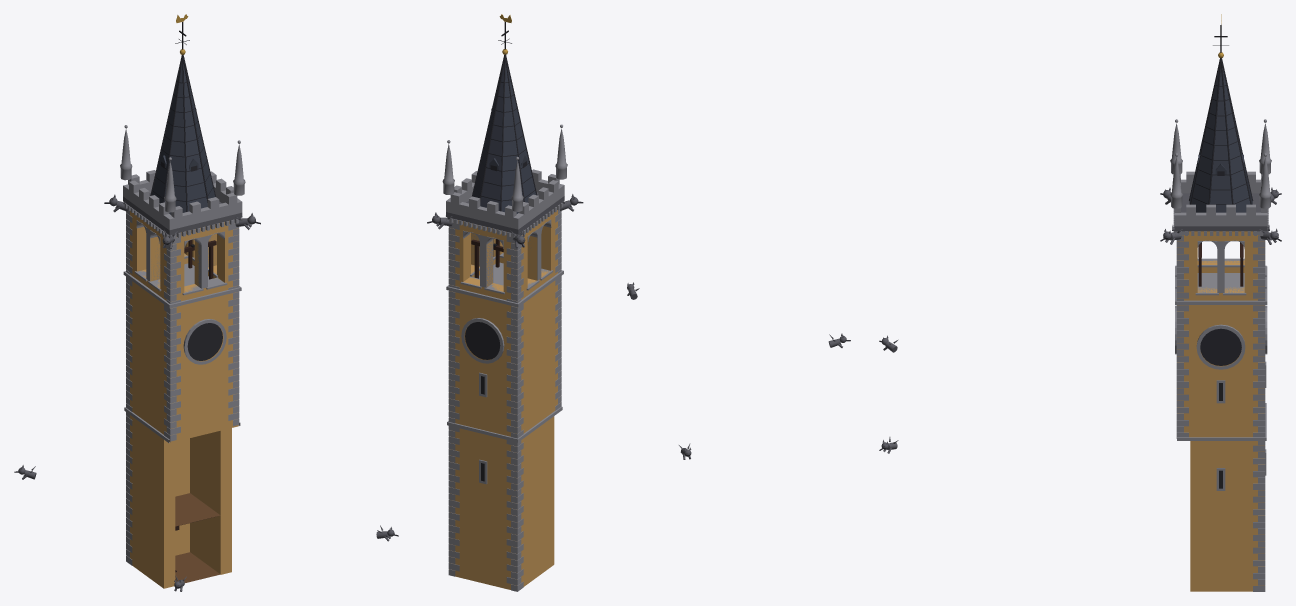
The model's file is hg-chapel-tower.glb.
3 views of the same model, side by side, from view 1: azimuth 30°, elevation 25°; view 2: azimuth 150°, elevation 25°; view 3: azimuth 270°, elevation 25° (orthographic).
Visible parts, largest first — view 1: hg-chapel-tower; view 2: hg-chapel-tower; view 3: hg-chapel-tower.
Part boxes in pixels (x1,y1,x2,y2): hg-chapel-tower: (14, 14, 398, 591); hg-chapel-tower: (427, 14, 850, 591); hg-chapel-tower: (879, 14, 1281, 591).
Bounding box in the file's own units: 11.92 × 28.04 × 18.32.
